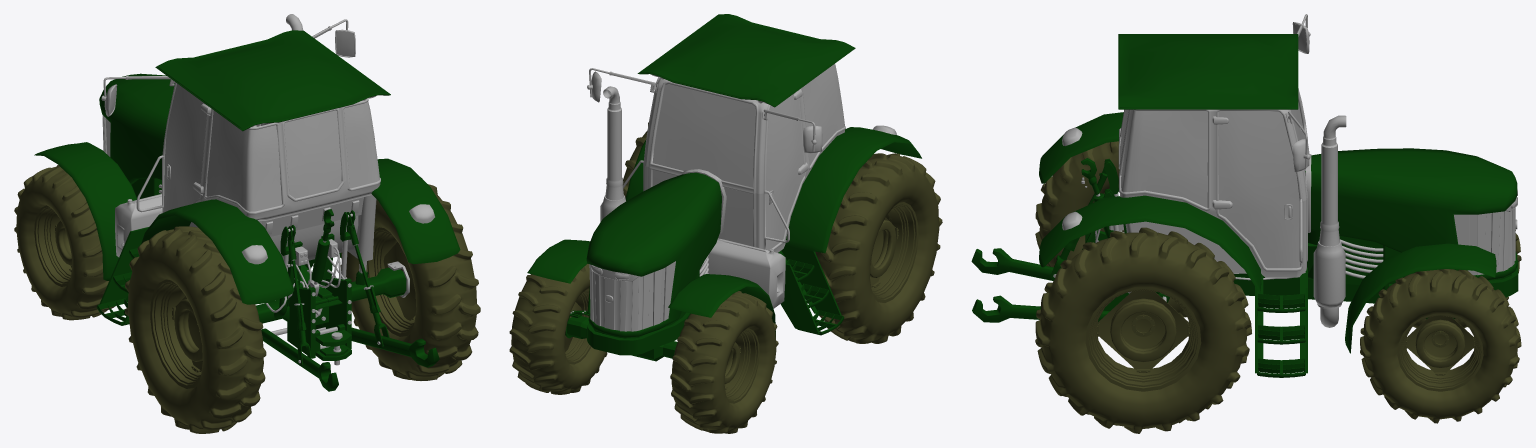
File: Tractor2020.fbx
3 views of the same model, side by side, from view 1: azimuth 30°, elevation 25°; view 2: azimuth 150°, elevation 25°; view 3: azimuth 270°, elevation 25° (orthographic). The views are drawn at different scales.
Parts seen in each view (by area): view 1: pCylinder2, polySurface23, pCylinder5, pCylinder3, polySurface4, polySurface5, polySurface35, polySurface2, polySurface7, polySurface57, polySurface10, polySurface48 (+16 smaller); view 2: pCylinder2, pCylinder3, polySurface35, polySurface23, pCylinder4, polySurface11, polySurface4, polySurface7, polySurface36, polySurface48, polySurface65, pCube29 (+11 smaller); view 3: pCylinder5, pCylinder4, polySurface35, polySurface23, polySurface33, polySurface8, polySurface2, polySurface7, pCylinder9, pCylinder2, polySurface45, polySurface63 (+8 smaller).
Boxes of the visible parts, x1,y1,x2,y2 form: pCylinder2: (124,226,266,433); polySurface23: (155,30,390,131); pCylinder5: (340,178,480,380); pCylinder3: (14,165,115,320); polySurface4: (141,199,294,304); polySurface5: (206,110,281,211); polySurface35: (99,73,174,184); polySurface2: (371,158,460,264); polySurface7: (136,82,380,220); polySurface57: (34,142,136,280); polySurface10: (284,110,341,198); polySurface48: (163,83,207,212); pCylinder2: (815,153,942,343); pCylinder3: (670,291,778,433); polySurface35: (586,172,721,337); polySurface23: (637,14,855,107); pCylinder4: (509,264,607,394); polySurface11: (652,84,755,187); polySurface4: (785,127,921,253); polySurface7: (623,77,845,252); polySurface36: (589,261,675,331); polySurface48: (766,91,804,250); polySurface65: (778,244,844,335); pCube29: (708,238,785,308); pCylinder5: (1035,227,1251,433); pCylinder4: (1360,269,1521,423); polySurface35: (1311,148,1517,279); polySurface23: (1118,34,1298,109); polySurface33: (1216,111,1299,268); polySurface8: (1121,109,1207,207); polySurface2: (1039,195,1261,293); polySurface7: (1118,88,1307,277); pCylinder9: (1313,115,1346,307); pCylinder2: (1035,141,1186,317); polySurface45: (1345,243,1496,353); polySurface63: (1255,267,1307,377).
Bounding box in the file's own units: 281 × 306 × 479.
